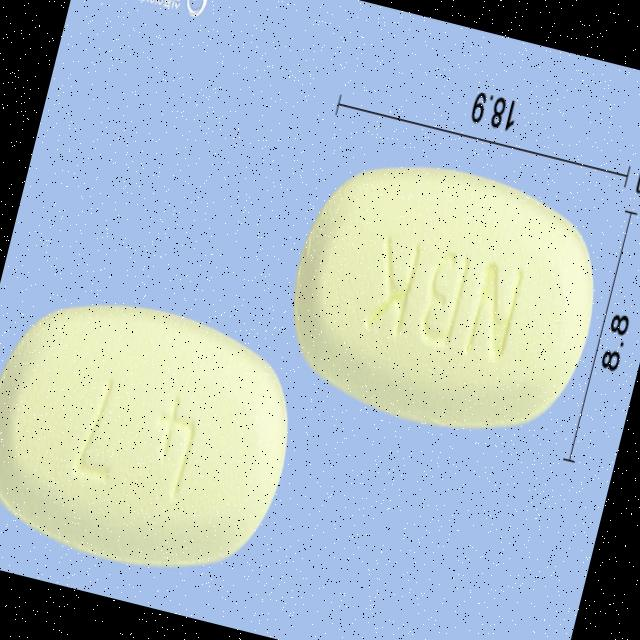Lathrocin-500mg: (270, 137, 620, 460), (0, 283, 309, 597)
